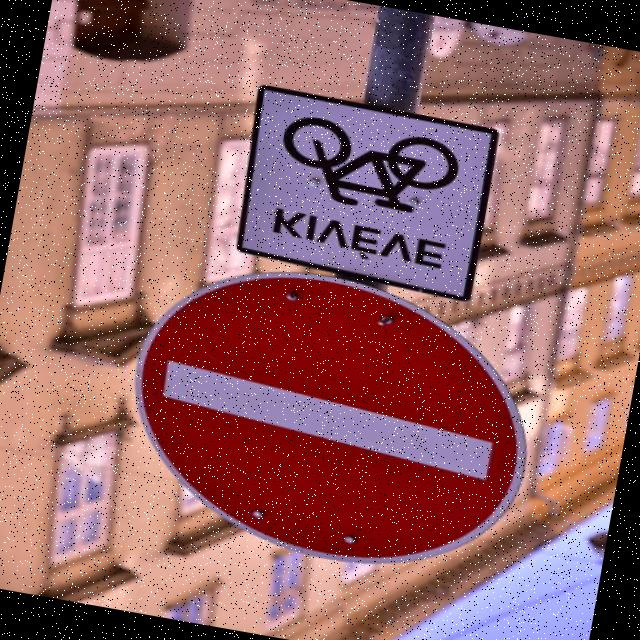do_not_enter: (64, 243, 590, 610)
